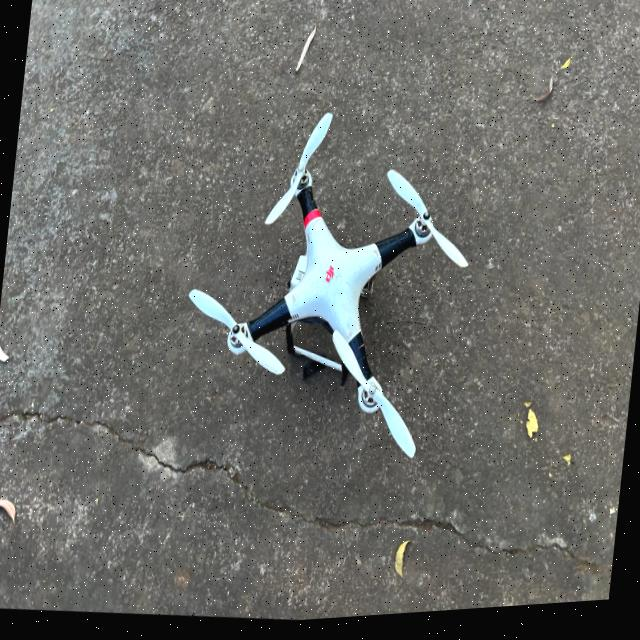drone: (134, 34, 548, 550)
